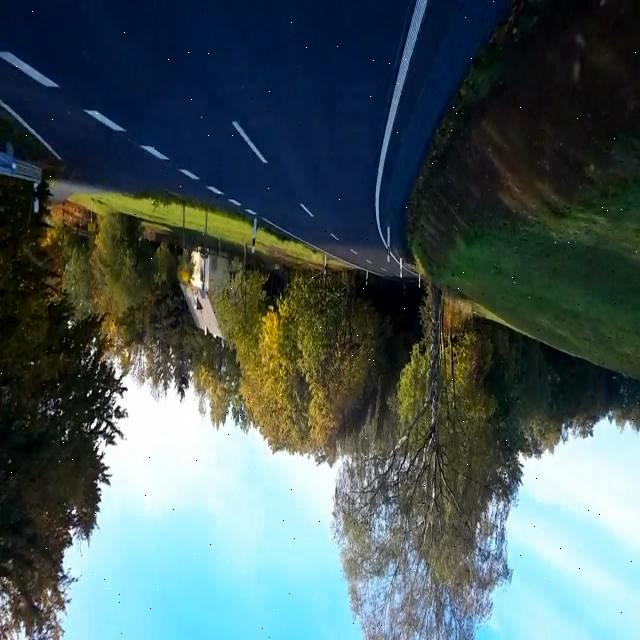lane: (375, 0, 428, 248), (0, 51, 59, 87), (231, 121, 268, 164), (84, 109, 126, 131), (139, 144, 170, 160), (179, 169, 199, 179)
road: (0, 1, 509, 276)
